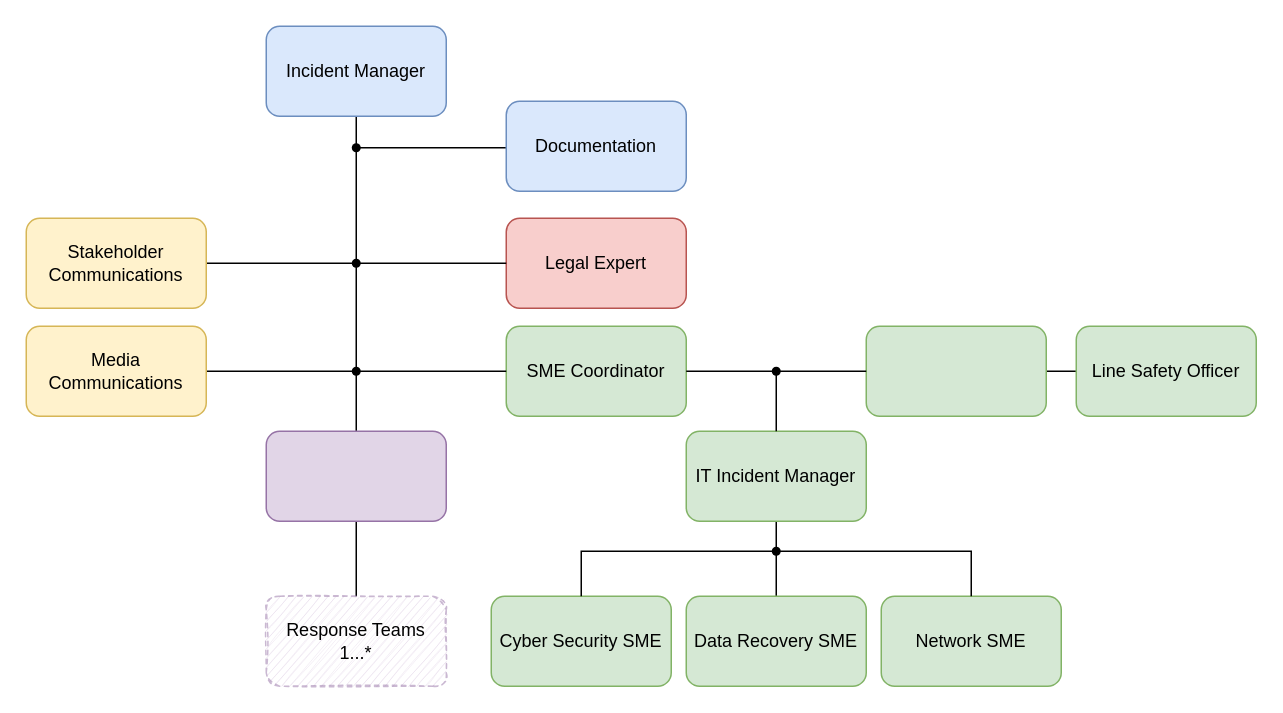
The diagram is 1283 pixels wide and 713 high, and some of its shapes have lost their labels. The shapes that lost their labels are listed below. From the top down, each one's centre as x and y in pixels, then its label:
the point at 955,370: Site Safety
the point at 355,475: Incident Response Team Coordinator
